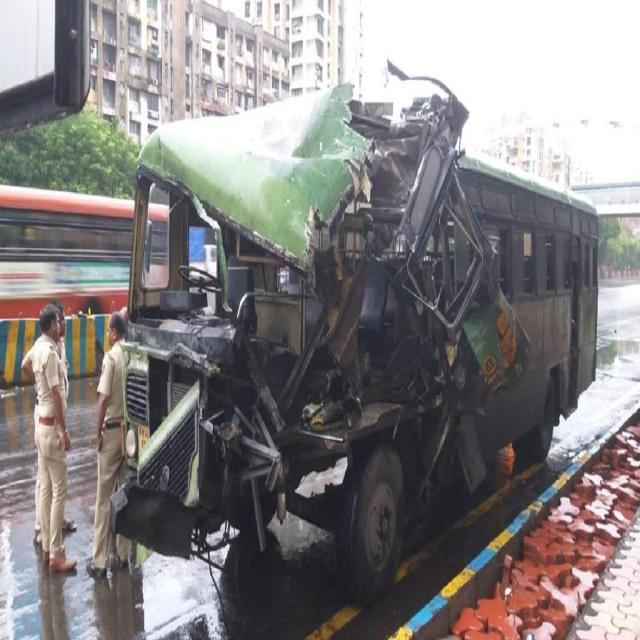accident: (111, 80, 598, 603)
